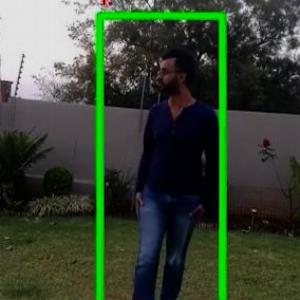follow: (126, 43, 222, 299)
